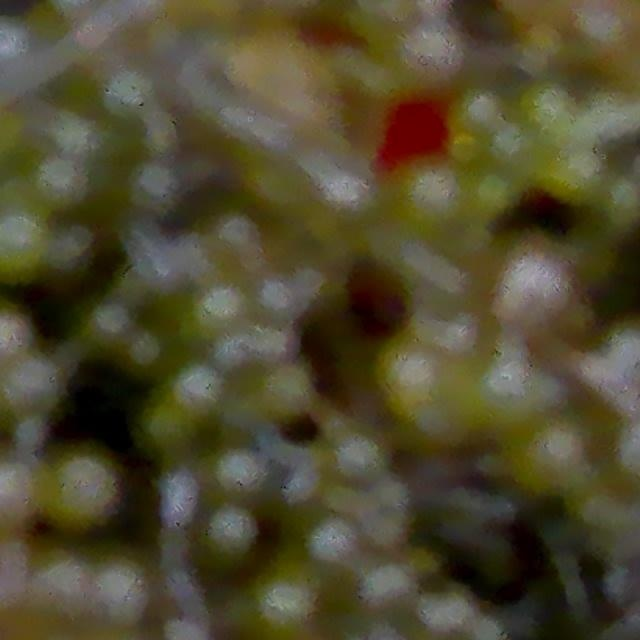SeaGrape: (44, 458, 121, 527), (0, 213, 54, 279), (172, 365, 224, 417), (207, 504, 257, 557), (309, 518, 357, 566)
